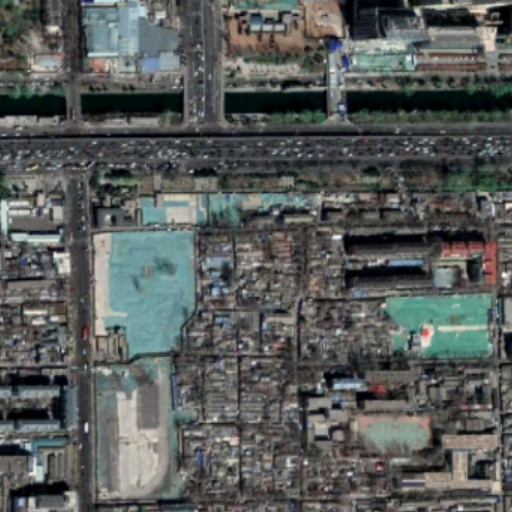cw: (88, 230, 202, 506), (380, 293, 498, 358), (136, 190, 319, 229)
